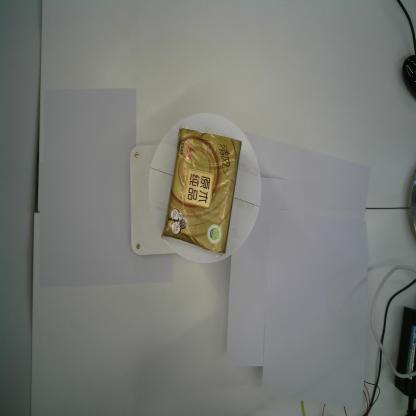Tissue: (160, 124, 243, 256)
